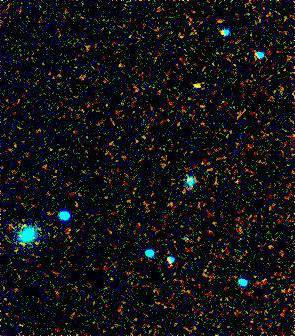star: (179, 72, 209, 102)
